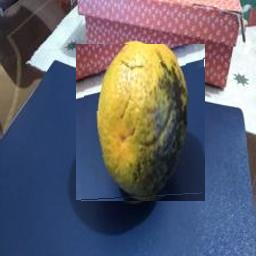Orange Semirotten: (76, 45, 205, 202)
